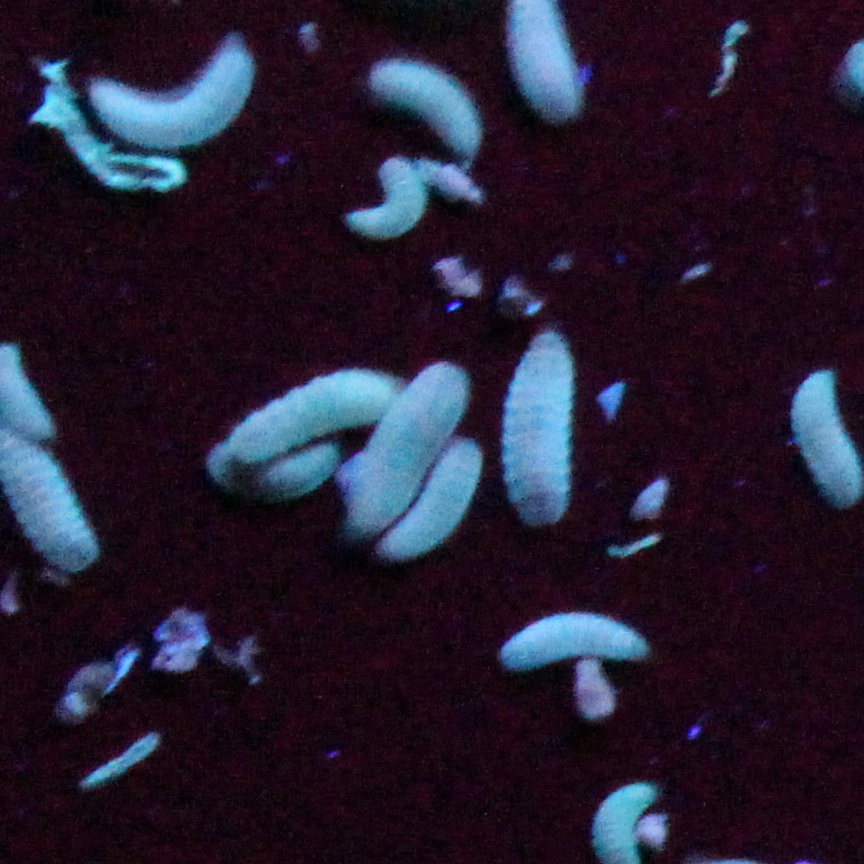larve: (350, 359, 462, 540), (225, 369, 401, 467), (92, 47, 246, 149), (509, 328, 580, 532), (384, 436, 486, 561), (503, 610, 656, 679), (370, 57, 474, 151), (344, 153, 433, 234), (266, 444, 337, 508)
